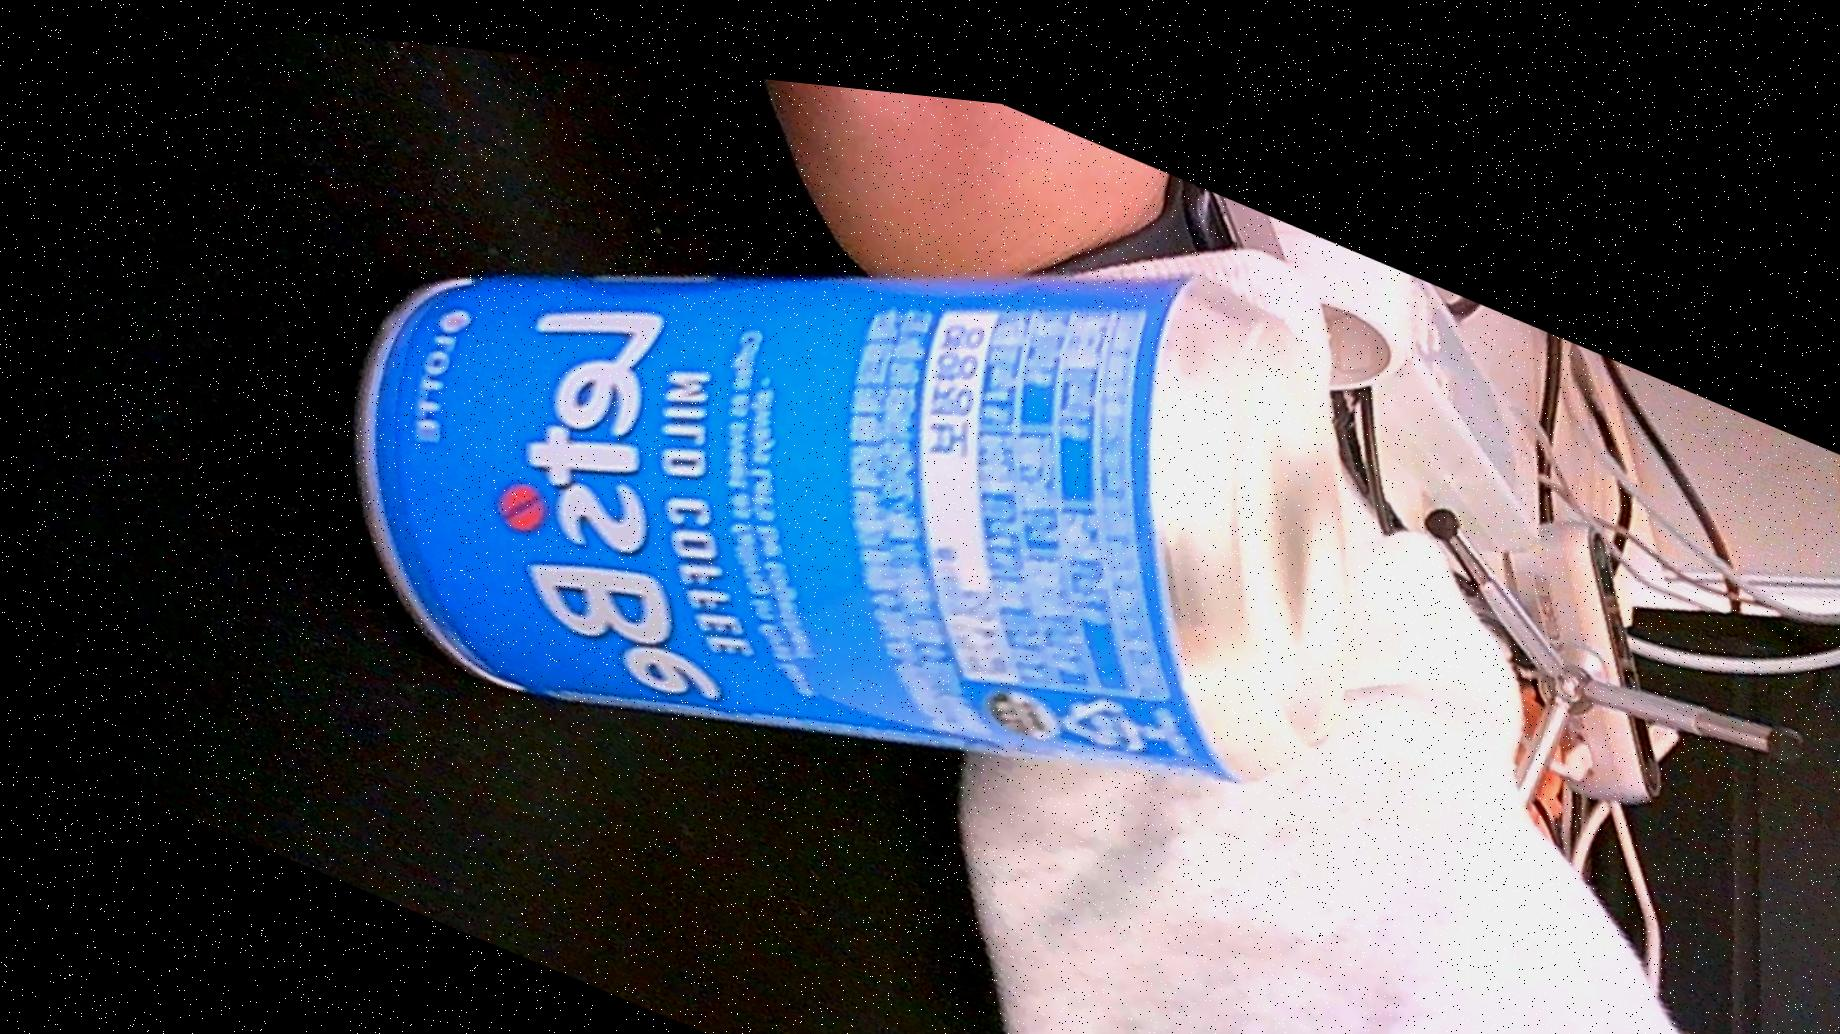letsbe: (257, 21, 1466, 1001)
